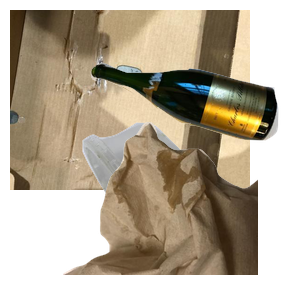cardboard: (10, 10, 250, 190)
glass: (88, 60, 300, 193)
plastic: (80, 120, 289, 300)
trash: (60, 120, 300, 300)
